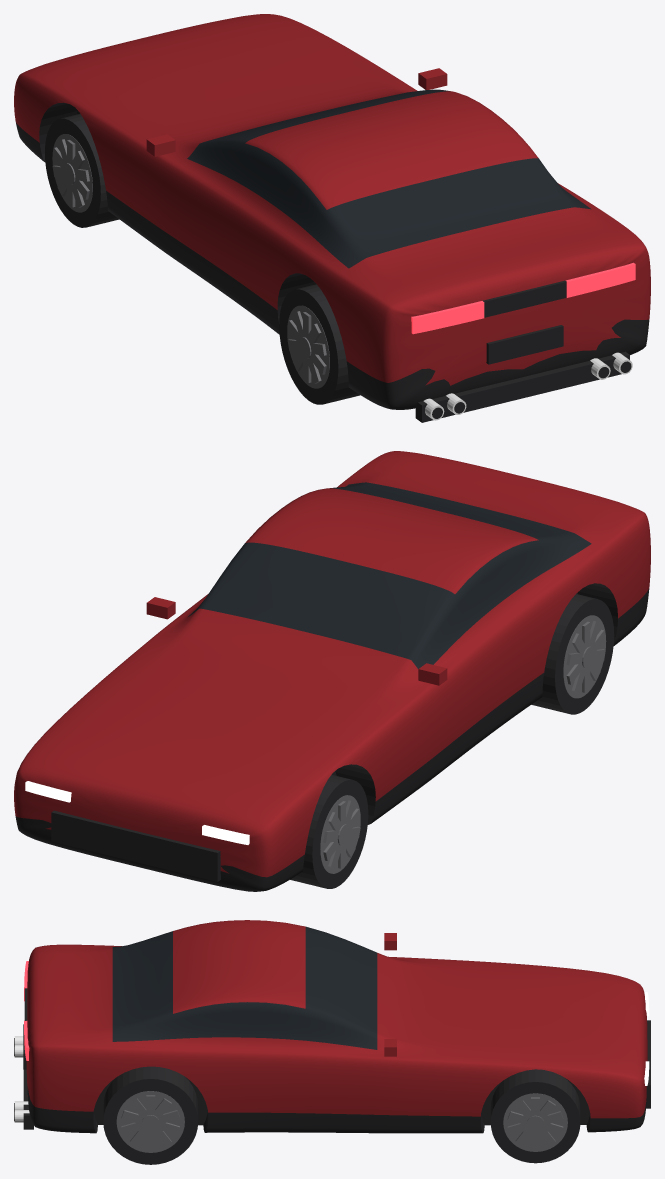
File: muscle.glb
3 views of the same model, one above another, from view 1: azimuth 30°, elevation 25°; view 2: azimuth 150°, elevation 25°; view 3: azimuth 270°, elevation 25° (orthographic). The views are drawn at different scales.
Parts seen in each view (by area): view 1: carroceria, det_st_plastico, rueda_TI, rueda_DI, det_st_luz_roja, det_st_pintura_muscle, det_st_cromo; view 2: carroceria, rueda_TI, rueda_DI, det_st_plastico, det_st_luz_blanca, det_st_pintura_muscle; view 3: carroceria, rueda_TD, rueda_DD, det_st_plastico, det_st_cromo, det_st_pintura_muscle.
Part boxes in pixels (x1=…): carroceria: x1=14, y1=14, x2=650, y2=409; det_st_plastico: x1=415, y1=280, x2=631, y2=422; rueda_TI: x1=279, y1=284, x2=360, y2=404; rueda_DI: x1=45, y1=114, x2=119, y2=227; det_st_luz_roja: x1=411, y1=262, x2=635, y2=334; det_st_pintura_muscle: x1=146, y1=68, x2=447, y2=156; det_st_cromo: x1=423, y1=352, x2=632, y2=420; carroceria: x1=14, y1=451, x2=650, y2=891; rueda_TI: x1=531, y1=594, x2=614, y2=714; rueda_DI: x1=290, y1=774, x2=368, y2=888; det_st_plastico: x1=51, y1=810, x2=220, y2=881; det_st_luz_blanca: x1=25, y1=781, x2=249, y2=844; det_st_pintura_muscle: x1=146, y1=597, x2=447, y2=685; carroceria: x1=26, y1=920, x2=647, y2=1133; rueda_TD: x1=103, y1=1066, x2=198, y2=1164; rueda_DD: x1=490, y1=1069, x2=580, y2=1163; det_st_plastico: x1=14, y1=988, x2=650, y2=1129; det_st_cromo: x1=14, y1=1036, x2=29, y2=1122; det_st_pintura_muscle: x1=384, y1=933, x2=396, y2=1056.
Size of the model in its own units: 2.11 by 1.33 by 4.97.
